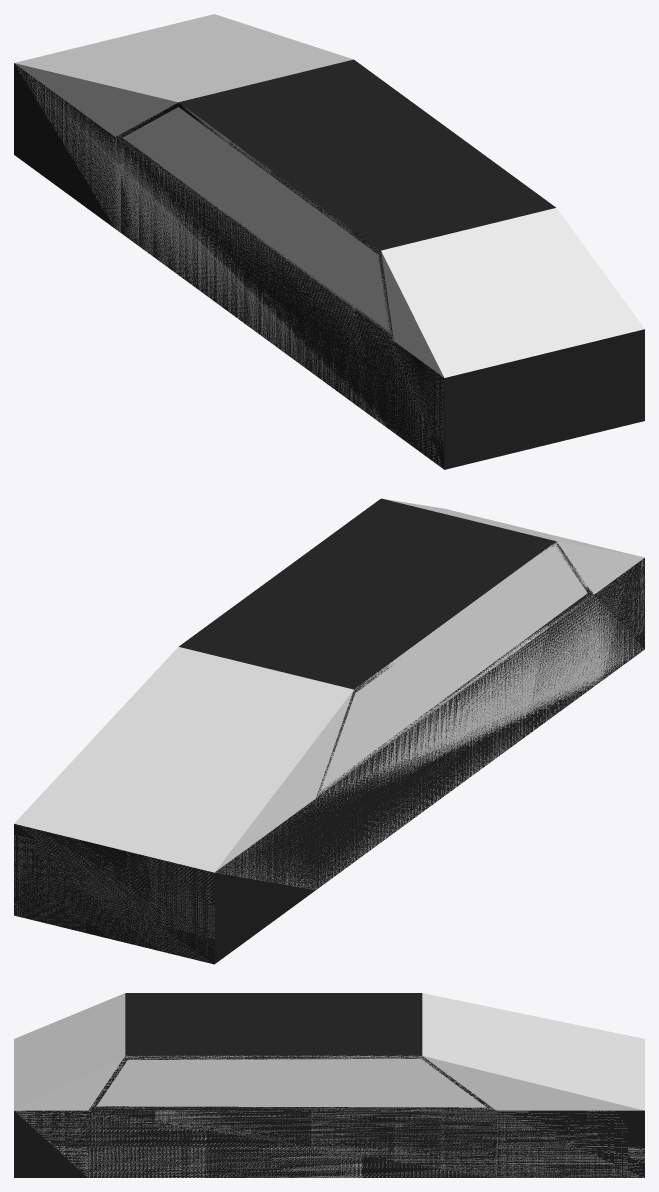
Rendered from limo.glb.
3 renders of one model, top to bottom at view 1: azimuth 30°, elevation 25°; view 2: azimuth 150°, elevation 25°; view 3: azimuth 270°, elevation 25°, orthographic. The views are drawn at different scales.
Visible parts, largest first — view 1: vehicles/limo, COL_hull, window.00, window.02, window.01; view 2: vehicles/limo, COL_hull, window.01, window.02, window.00; view 3: vehicles/limo, COL_hull, window.05, window.04, window.06.
Part boxes in pixels (x1,y1,x2,y2): vehicles/limo: (14,59,644,469); COL_hull: (14,14,644,467); window.00: (118,105,228,211); window.02: (327,217,392,338); window.01: (220,139,329,261); vehicles/limo: (14,498,644,964); COL_hull: (14,498,644,962); window.01: (404,578,524,708); window.02: (506,545,591,645); window.00: (316,652,413,797); vehicles/limo: (14,993,644,1177); COL_hull: (14,993,644,1177); window.05: (191,1055,347,1110); window.04: (344,1055,494,1110); window.06: (89,1056,199,1110).
Bounding box in the file's own units: 2 × 1.53 × 7.44.
Materials: 2 (2 with a texture image).
